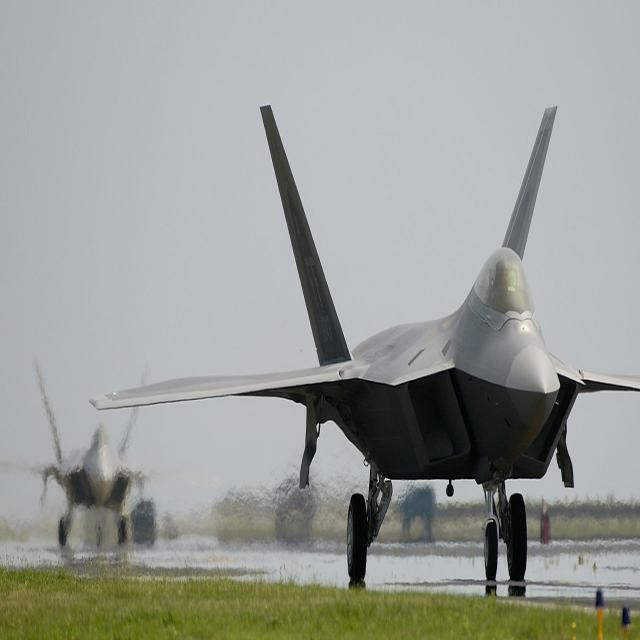MIL_Plane: (88, 104, 640, 584), (0, 360, 204, 554)
